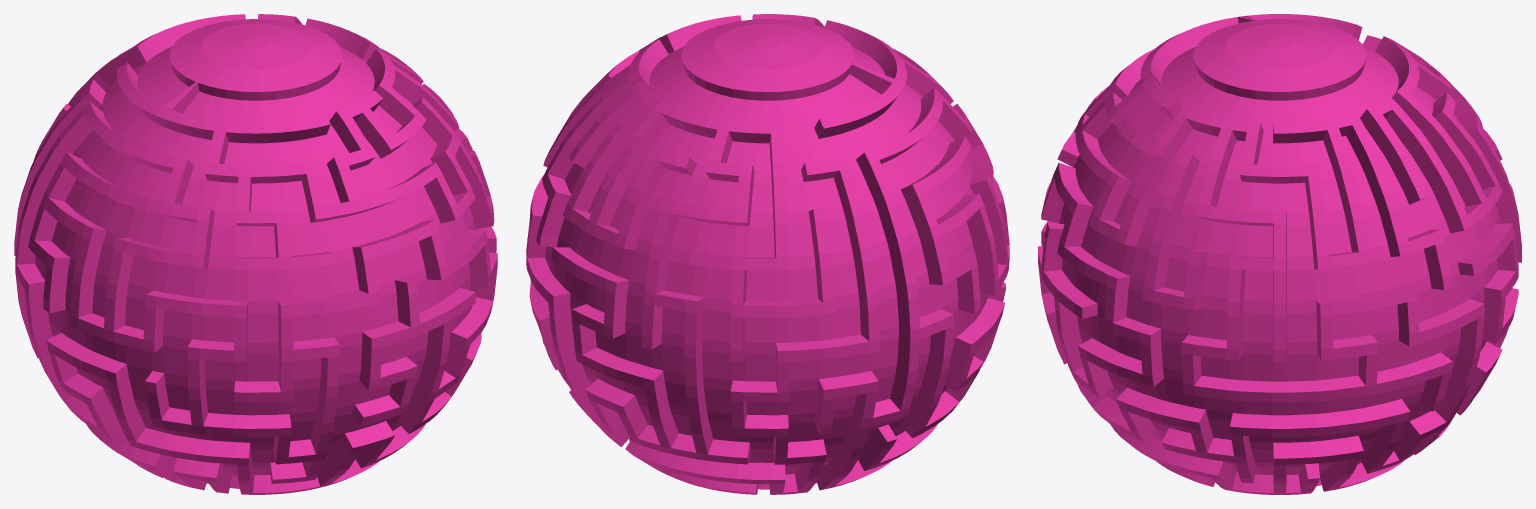
The model's file is maze 6 temmuz.fbx.
The picture shows the model from 3 angles, left to right: view 1: azimuth 30°, elevation 25°; view 2: azimuth 150°, elevation 25°; view 3: azimuth 270°, elevation 25°; orthographic projection.
Visible parts, largest first — view 1: Sphere.001; view 2: Sphere.001; view 3: Sphere.001.
Boxes of the visible parts, box(x1,y1,x2,y2) form: Sphere.001: box(14, 14, 497, 494); Sphere.001: box(526, 14, 1009, 494); Sphere.001: box(1038, 14, 1521, 494).
Bounding box in the file's own units: 221 × 214 × 221.
